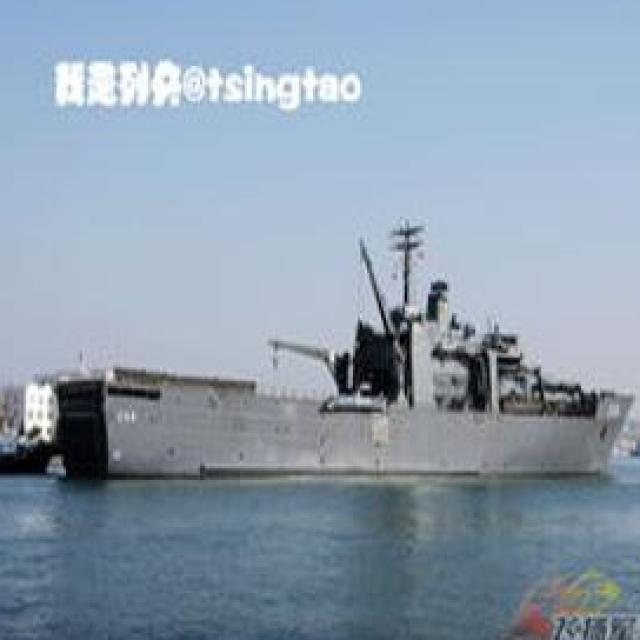navalvessels: (44, 212, 625, 480)
